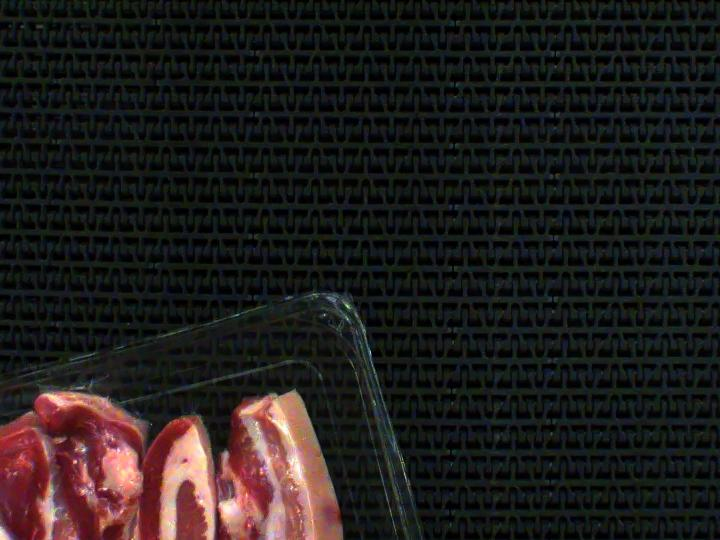packaging-error: (0, 360, 128, 407)
